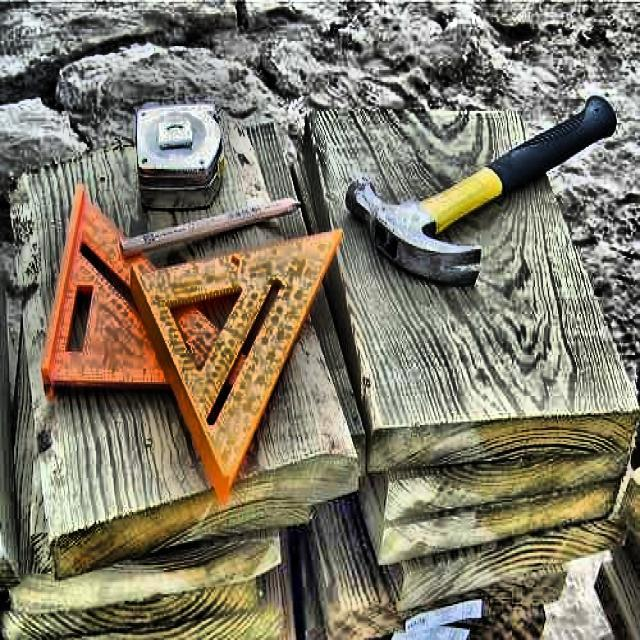hammer: (346, 90, 618, 288)
